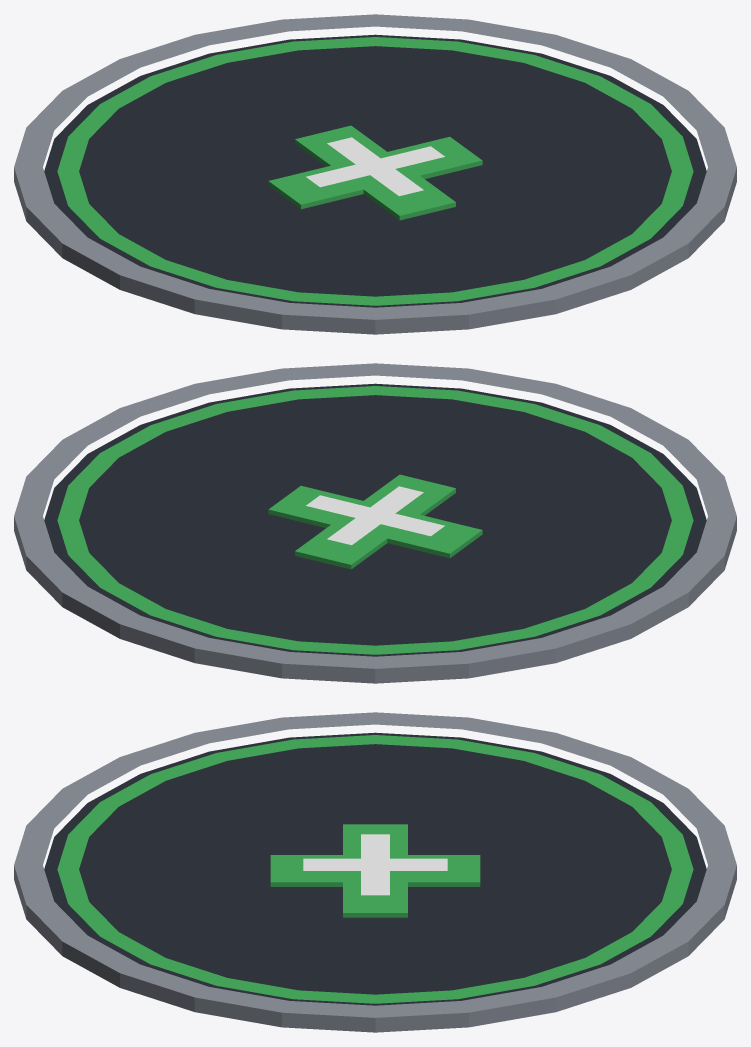
Rendered from medic_common_area.glb.
3 views of the same model, one above another, from view 1: azimuth 30°, elevation 25°; view 2: azimuth 150°, elevation 25°; view 3: azimuth 270°, elevation 25° (orthographic).
Parts seen in each view (by area): view 1: medic_common_area; view 2: medic_common_area; view 3: medic_common_area.
Boxes of the visible parts, box(x1,y1,x2,y2) form: medic_common_area: box(14, 14, 736, 334); medic_common_area: box(14, 363, 736, 683); medic_common_area: box(14, 712, 736, 1032).
Size of the model in its own units: 2 by 0.046 by 2.
Materials: 1 (1 with a texture image).
